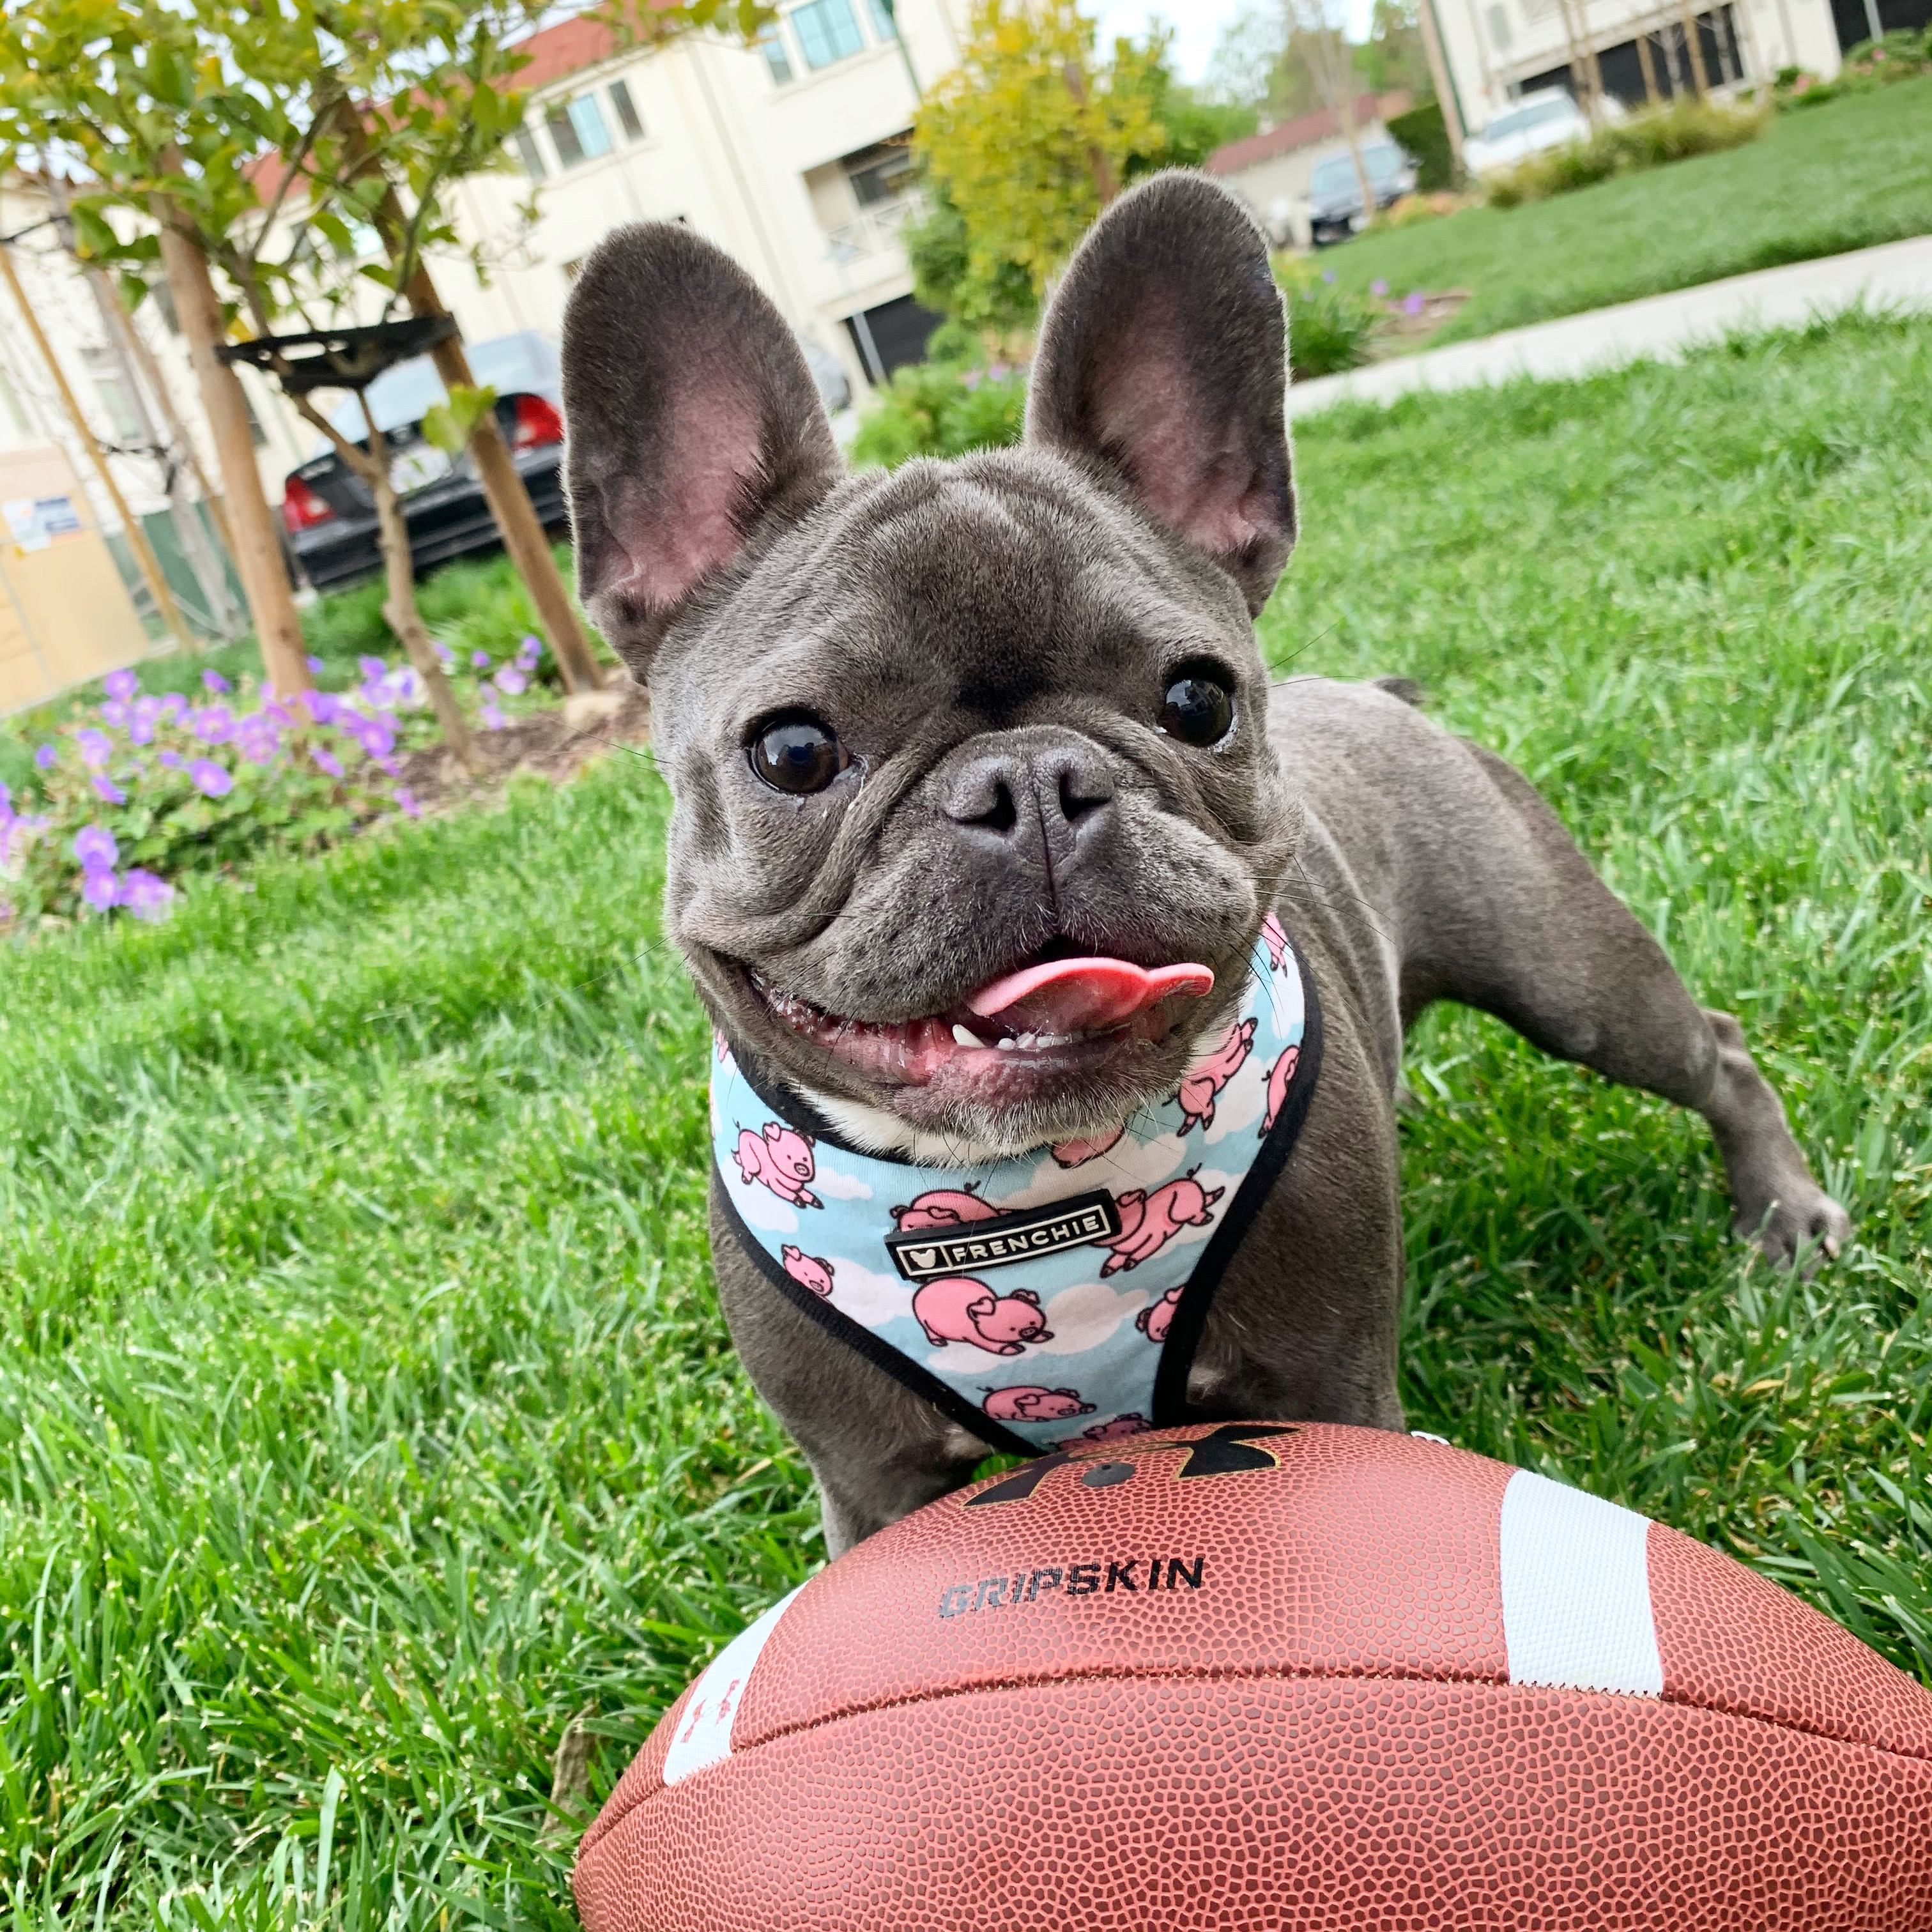lucy: (552, 168, 1845, 1713)
